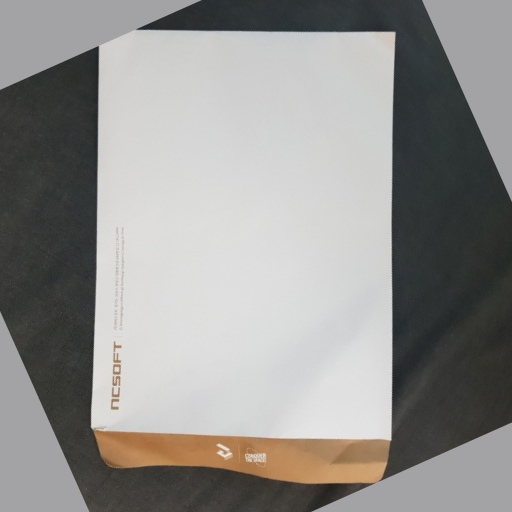Paper_2: (92, 23, 410, 495)
